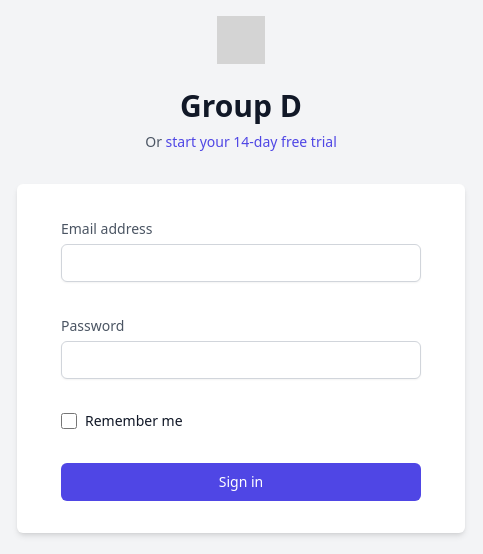
Test case: Sign in functionality › invalid input › render password error
In the password field labelled "Password": (241, 360) [61, 340, 421, 378], type "0000"
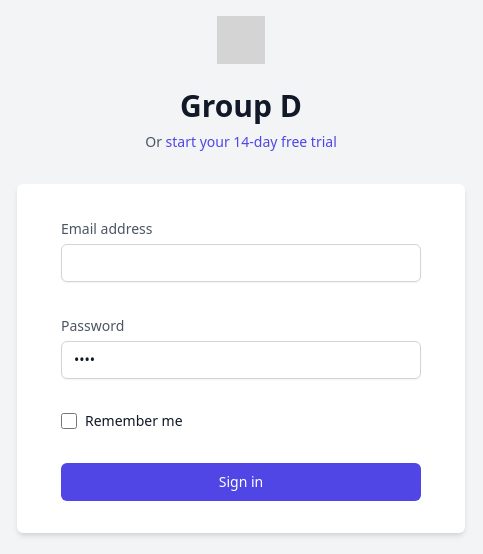
Click the button "Sign in": (241, 482) [61, 462, 421, 500]
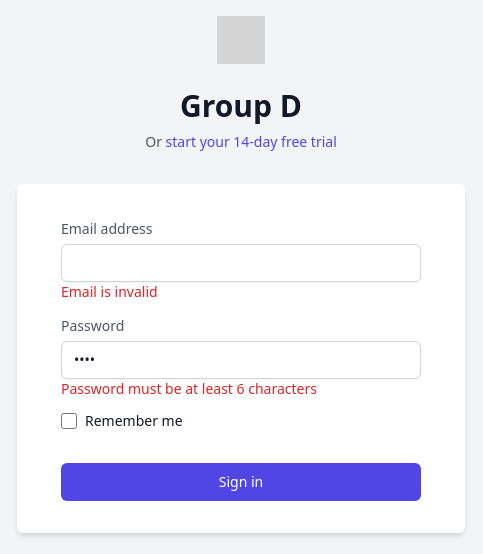
Expected: the text "Password must be at least 6 characters" is shown, [61, 378, 317, 398]
